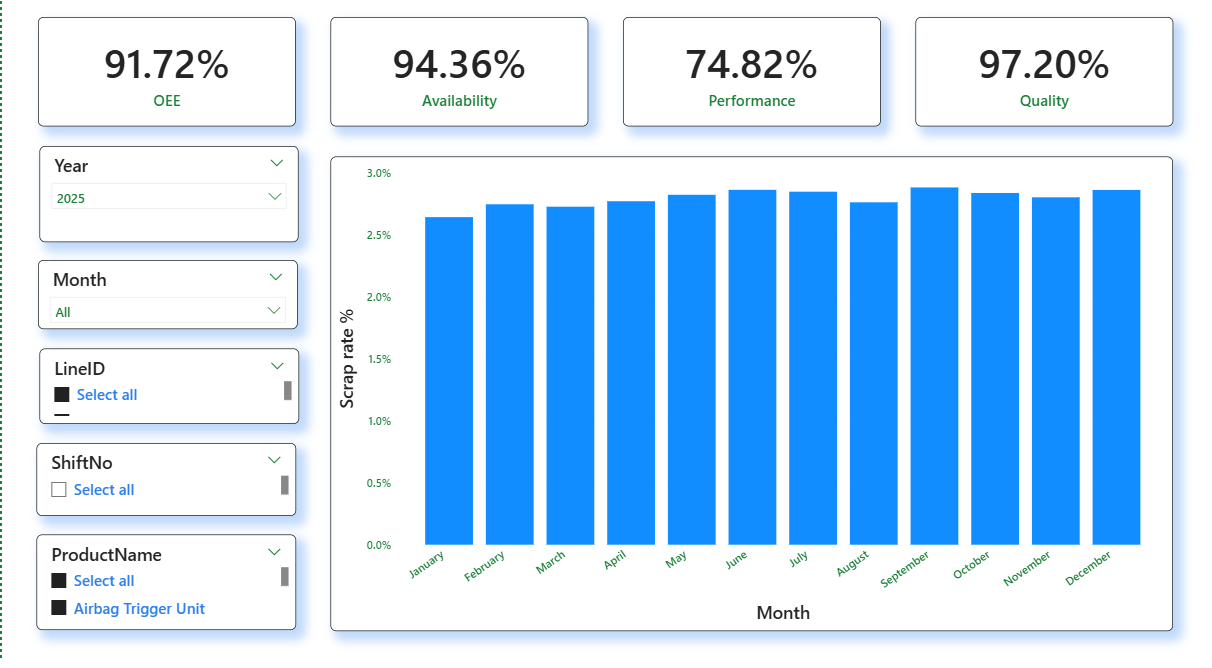

The dashboard page shown, as its layout file describes it:
{"tool":"powerbi","page":{"name":"OEE","canvas":[1280,720],"ordinal":2},"visuals":[{"type":"card","fields":{"Values":["Measures_Plant.OEE"]},"box":[37.5,25.4,273.6,115.8],"z":0},{"type":"card","fields":{"Values":["Measures_Plant.Availability"]},"box":[347.9,25.4,273.6,116.1],"z":1000},{"type":"card","fields":{"Values":["Measures_Plant.Quality"]},"box":[968.7,25.4,273.6,116.1],"z":2000},{"type":"clusteredColumnChart","fields":{"Category":["Calendar.Month"],"Y":["Measures_Plant.Scrap rate %"]},"box":[348.3,173.3,893.3,503.3],"z":3000},{"type":"slicer","fields":{"Values":["Calendar.Year"]},"box":[40,161.6,274.4,101.8],"z":4000},{"type":"slicer","fields":{"Values":["Calendar.Month"]},"box":[38,283.8,275,73],"z":5000},{"type":"slicer","fields":{"Values":["Production_Log.LineID"]},"box":[39,377.2,275,80],"z":6000},{"type":"slicer","fields":{"Values":["Production_Log.ShiftNo"]},"box":[37,477.6,275,77],"z":7000},{"type":"slicer","fields":{"Values":["DIM_Product.ProductName"]},"box":[37,575,275,101],"z":8000},{"type":"card","fields":{"Values":["Measures_Plant.Performance"]},"box":[658.5,25.4,273.6,116.1],"z":9000}]}

Visuals, with their boxes in screenshot pixels (x1, y1, x2, y2), scaled from the page's 1280x720 canvas onto the 1212x668 screenshot:
card - Measures_Plant.OEE: bbox=(36, 24, 295, 131)
card - Measures_Plant.Availability: bbox=(329, 24, 588, 131)
card - Measures_Plant.Quality: bbox=(917, 24, 1176, 131)
clusteredColumnChart - Calendar.Month x Measures_Plant.Scrap rate %: bbox=(330, 161, 1176, 628)
slicer - Calendar.Year: bbox=(38, 150, 298, 244)
slicer - Calendar.Month: bbox=(36, 263, 296, 331)
slicer - Production_Log.LineID: bbox=(37, 350, 297, 424)
slicer - Production_Log.ShiftNo: bbox=(35, 443, 295, 515)
slicer - DIM_Product.ProductName: bbox=(35, 533, 295, 627)
card - Measures_Plant.Performance: bbox=(624, 24, 883, 131)
